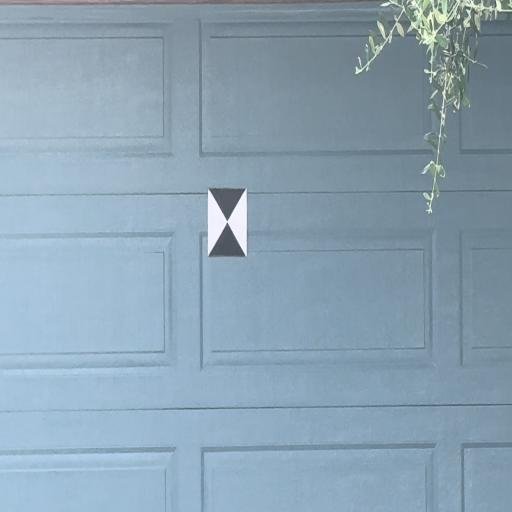target: (208, 188, 247, 256)
